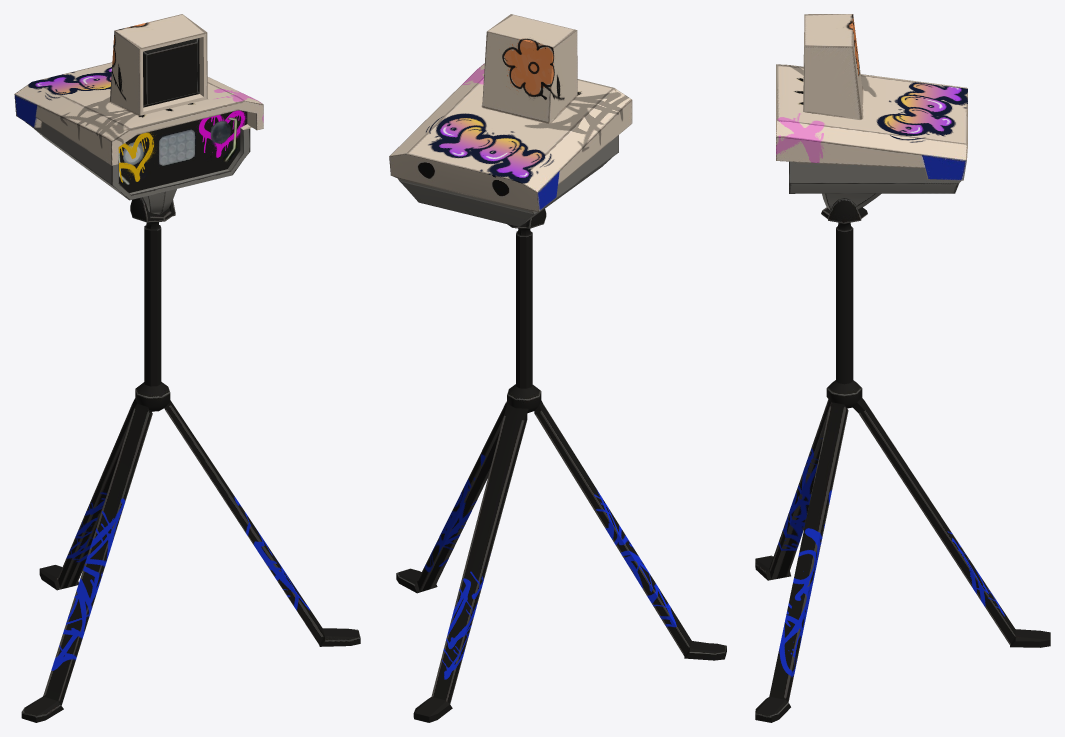
The model's file is SM_Radar.fbx.
3 renders of one model, left to right at view 1: azimuth 30°, elevation 25°; view 2: azimuth 150°, elevation 25°; view 3: azimuth 270°, elevation 25°, orthographic. The views are drawn at different scales.
Parts seen in each view (by area): view 1: SM_Radar; view 2: SM_Radar; view 3: SM_Radar.
Boxes of the visible parts, bbox=[...] form: SM_Radar: bbox=[14, 14, 360, 722]; SM_Radar: bbox=[389, 14, 726, 722]; SM_Radar: bbox=[755, 14, 1050, 722].
Bounding box in the file's own units: 88.92 × 158 × 68.95.
Materials: 1 (1 with a texture image).
